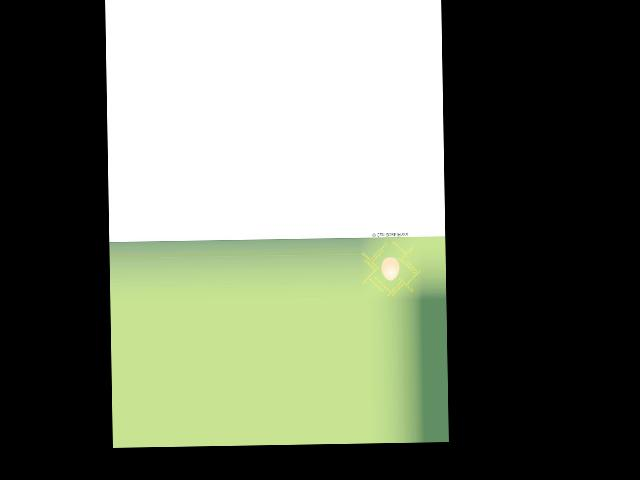egg: (381, 256, 399, 280)
